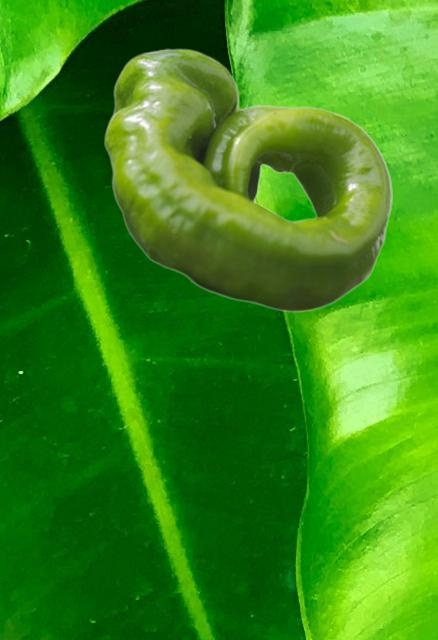green_chili: (104, 48, 391, 311)
